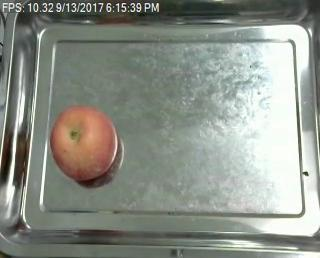apple: (51, 107, 121, 182)
